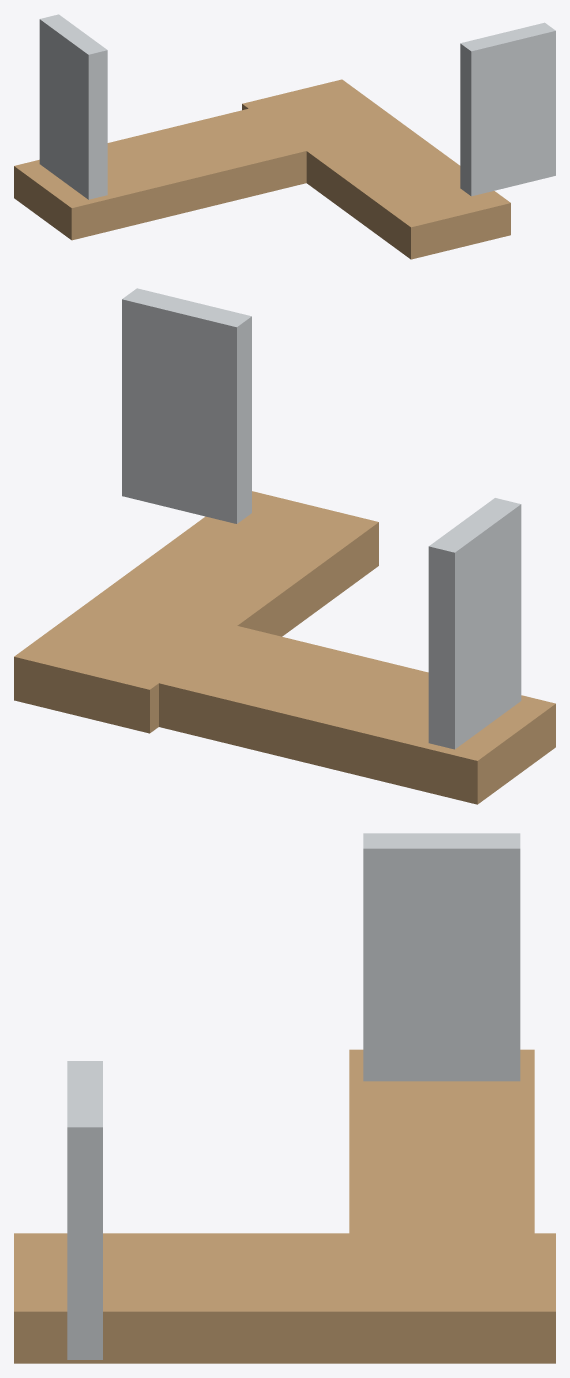
The model's file is wall-shelf-corner-premium.gltf.
3 renders of one model, top to bottom at view 1: azimuth 30°, elevation 25°; view 2: azimuth 150°, elevation 25°; view 3: azimuth 270°, elevation 25°, orthographic. The views are drawn at different scales.
Parts seen in each view (by area): view 1: wall-shelf-corner-premium; view 2: wall-shelf-corner-premium; view 3: wall-shelf-corner-premium.
Part boxes in pixels (left/top/right/bottom): wall-shelf-corner-premium: left=14, top=14, right=555, bottom=259; wall-shelf-corner-premium: left=14, top=288, right=555, bottom=804; wall-shelf-corner-premium: left=14, top=833, right=555, bottom=1363.
Size of the model in its own units: 1.03 by 0.44 by 0.76.
